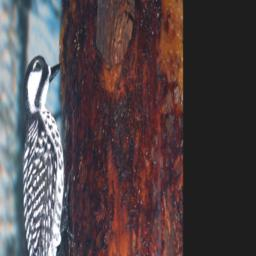Woodpecker: (19, 46, 74, 256)
